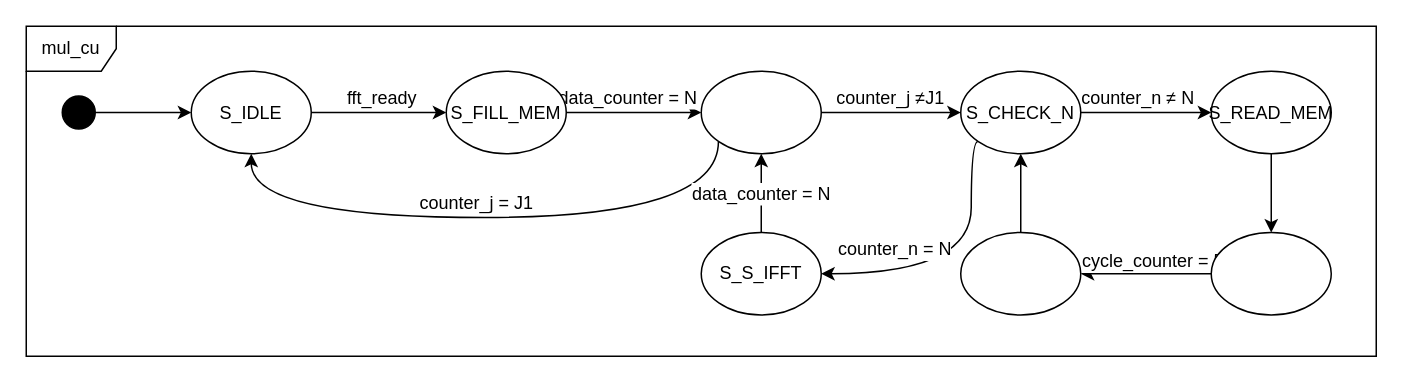
This 1403x383 diagram has some shape labels left out. The shapes that lost their labels are listed below. From the top down, each one's centre as x and y in pixels, then its label:
At point 760,112: "S_CHECK_J".
At point 1020,273: "S_WRITE_MEM".
At point 1270,273: "S_MULTIPLY".
